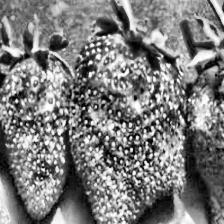Anthracnose Fruit Rot: (72, 63, 186, 200), (5, 66, 74, 196), (187, 60, 224, 224)
